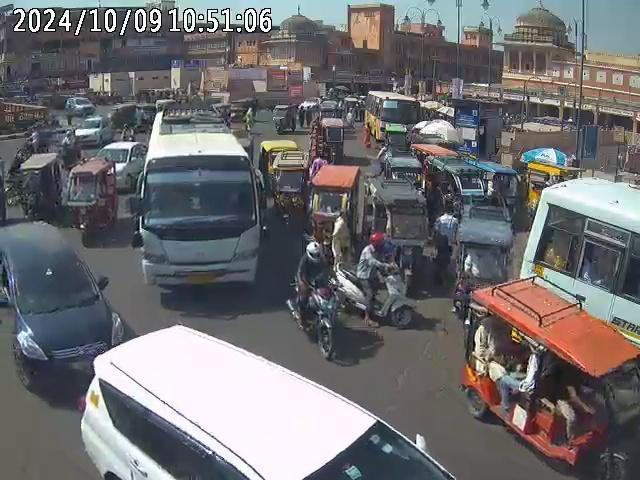auto: (463, 276, 639, 479), (305, 162, 372, 269), (372, 181, 426, 287), (456, 212, 510, 316), (64, 151, 120, 244), (258, 139, 310, 224), (424, 158, 486, 214), (16, 151, 64, 220)
bus: (522, 174, 639, 384), (137, 98, 260, 290), (364, 89, 424, 144)
car: (80, 324, 454, 480), (0, 217, 131, 389), (94, 140, 146, 189), (74, 118, 111, 146), (64, 96, 98, 114)
helmet: (366, 230, 387, 255), (304, 241, 324, 266)
motorbike-rider: (286, 240, 346, 364)
person: (426, 206, 454, 285)
scooty-rider: (334, 231, 421, 332)
